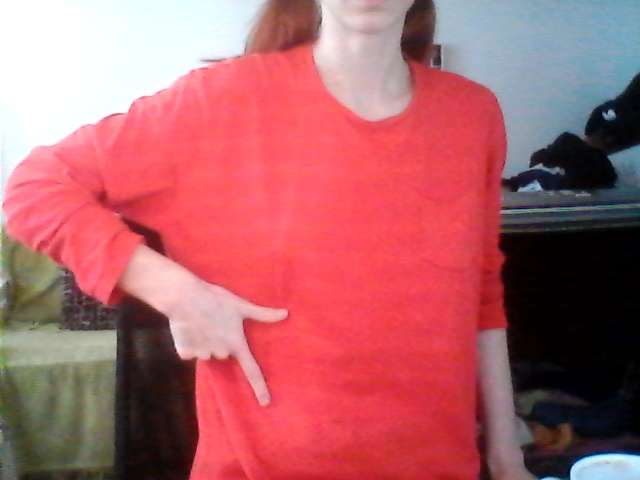policia: (146, 252, 316, 413)
